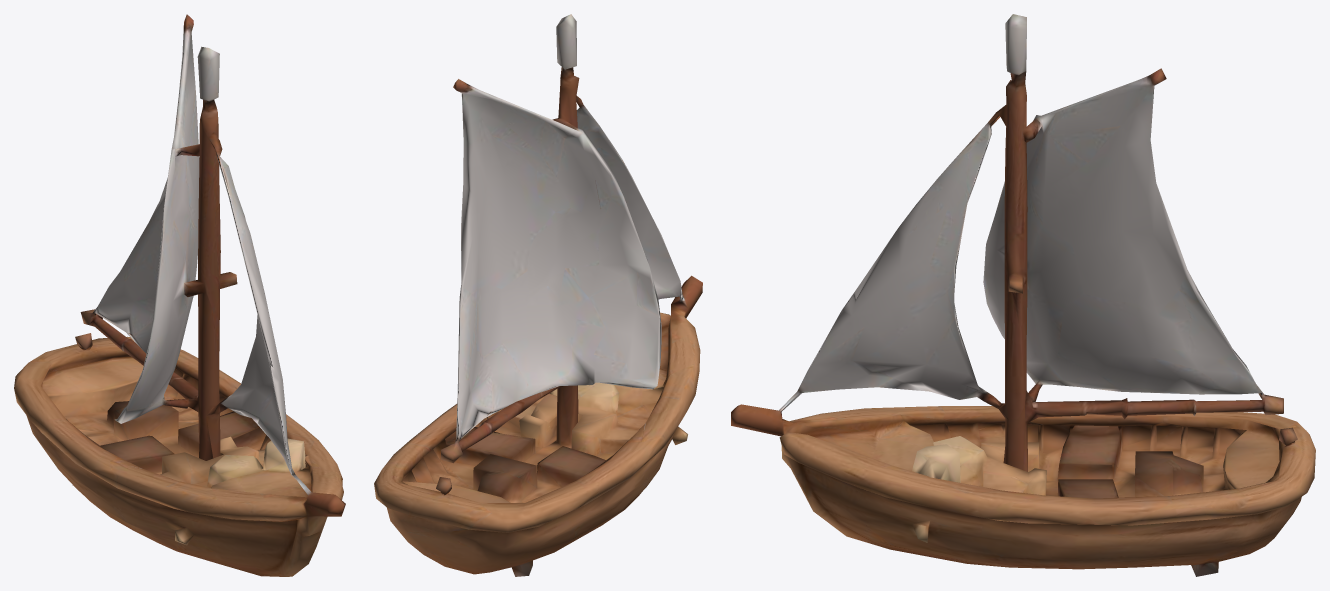
File: sailboat.glb
3 renders of one model, left to right at view 1: azimuth 30°, elevation 25°; view 2: azimuth 150°, elevation 25°; view 3: azimuth 270°, elevation 25°, orthographic. The views are drawn at different scales.
Visible parts, largest first — view 1: tripo_node_0823fe1e-a7e1-483c-a774-ce3a4f40bbb9; view 2: tripo_node_0823fe1e-a7e1-483c-a774-ce3a4f40bbb9; view 3: tripo_node_0823fe1e-a7e1-483c-a774-ce3a4f40bbb9.
Boxes of the visible parts, left/top/right/bottom form: tripo_node_0823fe1e-a7e1-483c-a774-ce3a4f40bbb9: left=14, top=14, right=345, bottom=576; tripo_node_0823fe1e-a7e1-483c-a774-ce3a4f40bbb9: left=374, top=14, right=702, bottom=576; tripo_node_0823fe1e-a7e1-483c-a774-ce3a4f40bbb9: left=731, top=14, right=1315, bottom=576.
Size of the model in its own units: 0.4212 by 1 by 0.981.
1 material, 1 textured.
